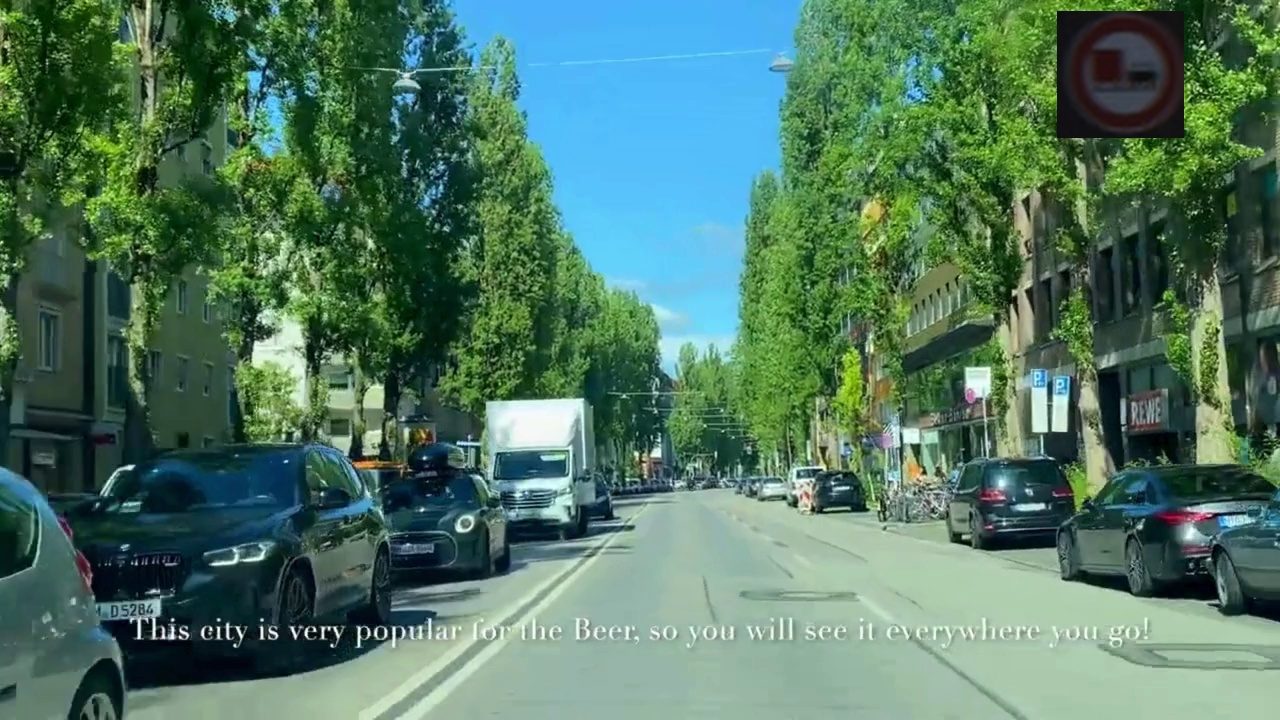No pass >3.5t: (1057, 11, 1184, 138)
